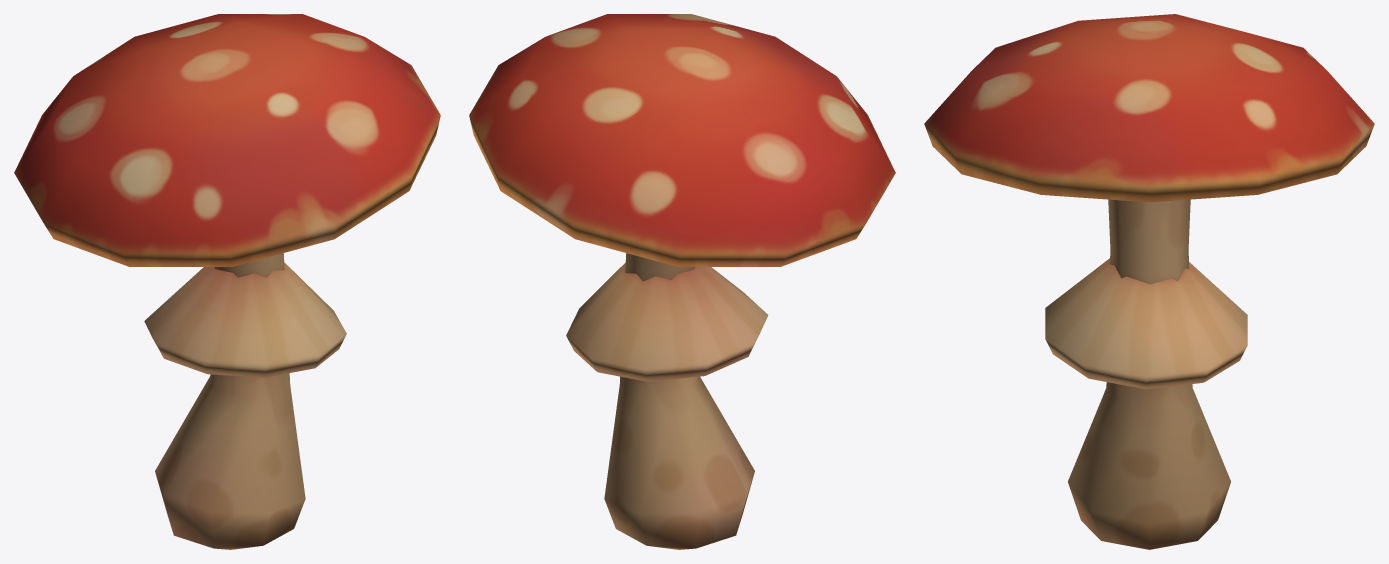
File: mashroom01.fbx
3 renders of one model, left to right at view 1: azimuth 30°, elevation 25°; view 2: azimuth 150°, elevation 25°; view 3: azimuth 270°, elevation 25°, orthographic. The views are drawn at different scales.
Visible parts, largest first — view 1: mushroom01; view 2: mushroom01; view 3: mushroom01.
Part boxes in pixels (bbox=[...]): mushroom01: bbox=[14, 14, 440, 549]; mushroom01: bbox=[469, 14, 895, 549]; mushroom01: bbox=[924, 14, 1374, 549].
Size of the model in its own units: 65.27 by 84.06 by 66.28.
